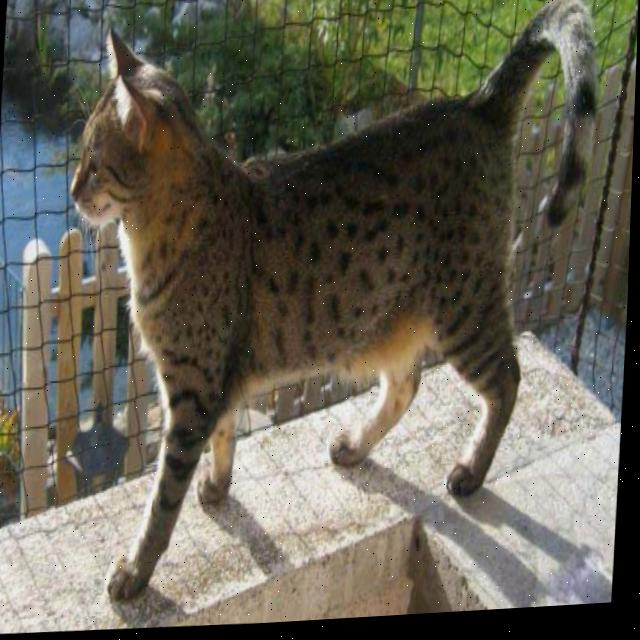Egyptian Mau: (49, 0, 604, 621)
